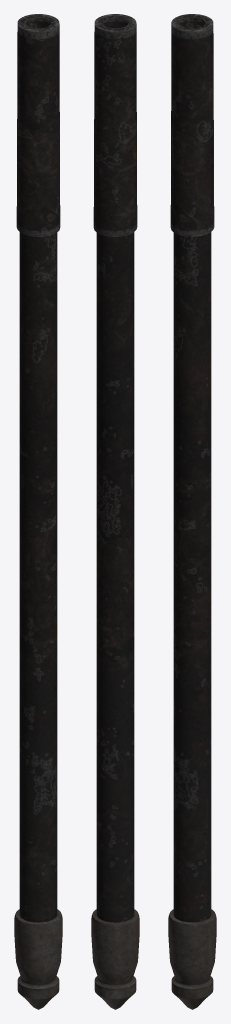
The model's file is wm_dol_goldur_2h_axe_a01_handle.fbx.
The picture shows the model from 3 angles, left to right: view 1: azimuth 30°, elevation 25°; view 2: azimuth 150°, elevation 25°; view 3: azimuth 330°, elevation 25°; orthographic projection.
Parts seen in each view (by area): view 1: wm_dol_goldur_2h_axe_a01_handle; view 2: wm_dol_goldur_2h_axe_a01_handle; view 3: wm_dol_goldur_2h_axe_a01_handle.
Part boxes in pixels (x1=…): wm_dol_goldur_2h_axe_a01_handle: x1=14, y1=14, x2=62, y2=1009; wm_dol_goldur_2h_axe_a01_handle: x1=91, y1=14, x2=139, y2=1009; wm_dol_goldur_2h_axe_a01_handle: x1=168, y1=14, x2=216, y2=1009.
Bounding box in the file's own units: 0.043 × 0.043 × 0.9679.
1 material, 1 textured.
